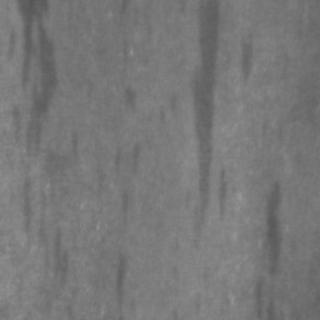inclusion: (11, 0, 49, 256), (186, 1, 227, 218), (248, 177, 288, 316), (44, 220, 80, 296), (107, 247, 131, 317), (235, 24, 257, 88), (110, 136, 142, 180), (114, 78, 138, 114), (112, 188, 132, 228)
